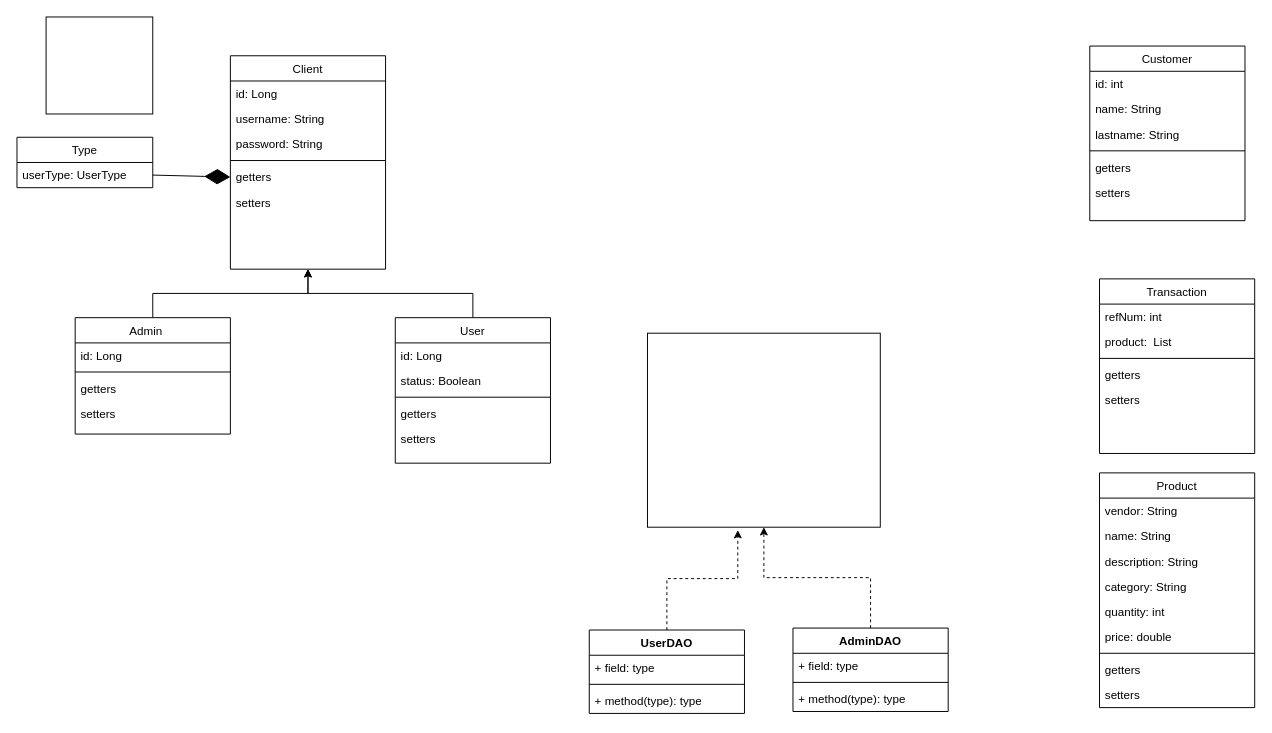
Image size: 1272x733. Some labels were removed from this diagram. The shapes that lost their labels are listed below. From the top down, each one's centre as x and y in pixels, then its label:
At [99,65]: "<<Enumeration>> UserType ADMIN USER".
At [763,429]: "<<Interface>> DAO + add() + delete() + update() + getAll()".
